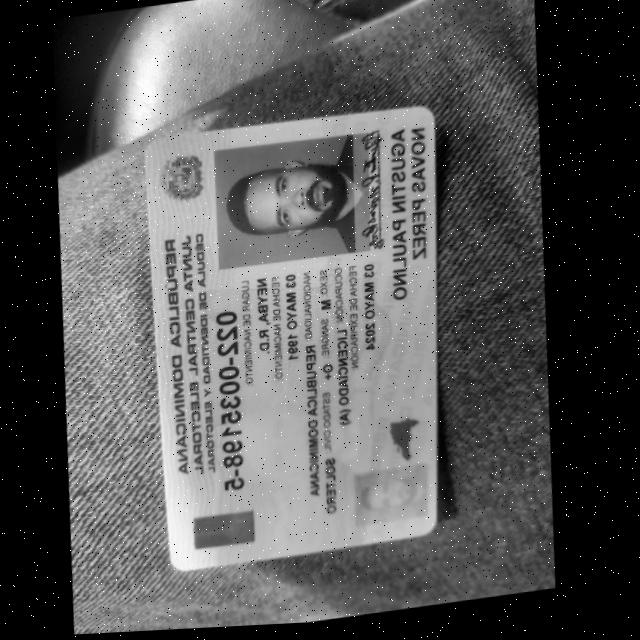card: (145, 108, 436, 570)
